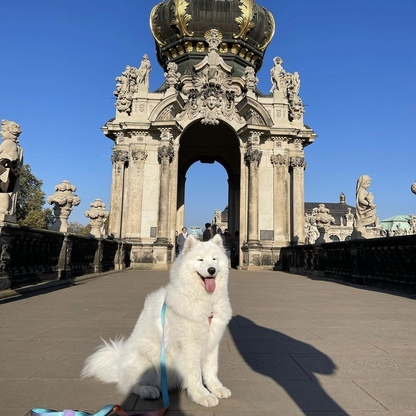samoyed: (77, 228, 240, 411)
